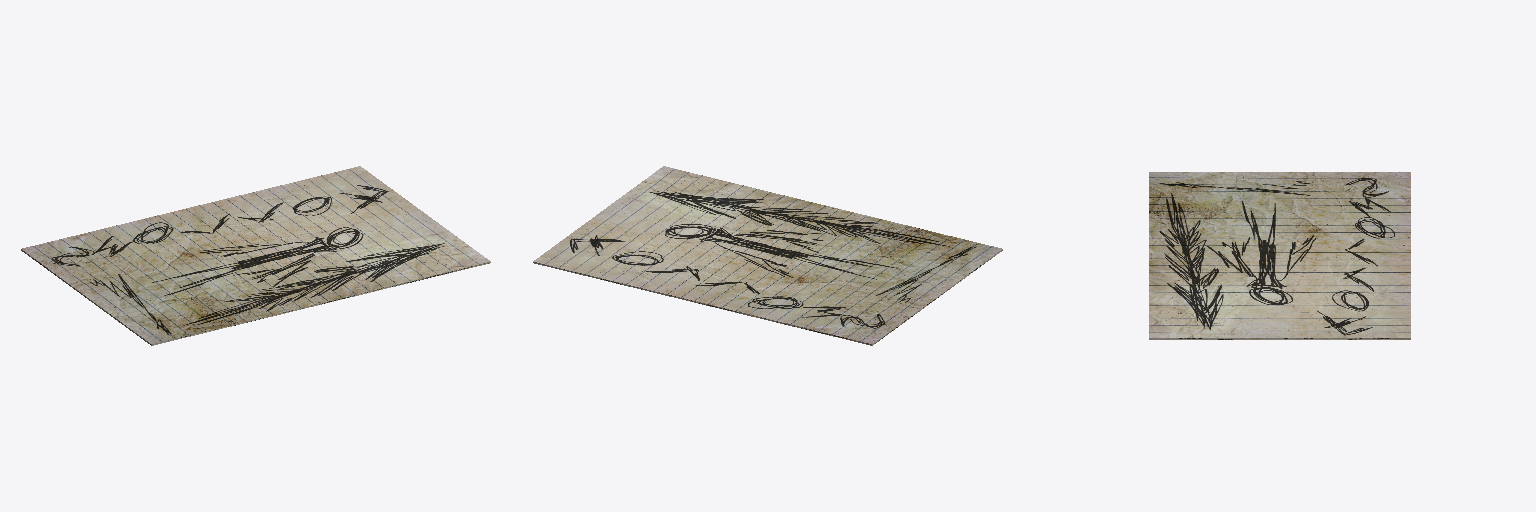
3 renders of one model, left to right at view 1: azimuth 30°, elevation 25°; view 2: azimuth 150°, elevation 25°; view 3: azimuth 270°, elevation 25°, orthographic.
Parts seen in each view (by area): view 1: Page_1; view 2: Page_1; view 3: Page_1.
Boxes of the visible parts, box(x1,y1,x2,y2) form: Page_1: box(21, 166, 490, 345); Page_1: box(533, 166, 1002, 345); Page_1: box(1149, 172, 1410, 339).
Bounding box in the file's own units: 0.45 × 0.002 × 0.3.
Materials: 1 (1 with a texture image).